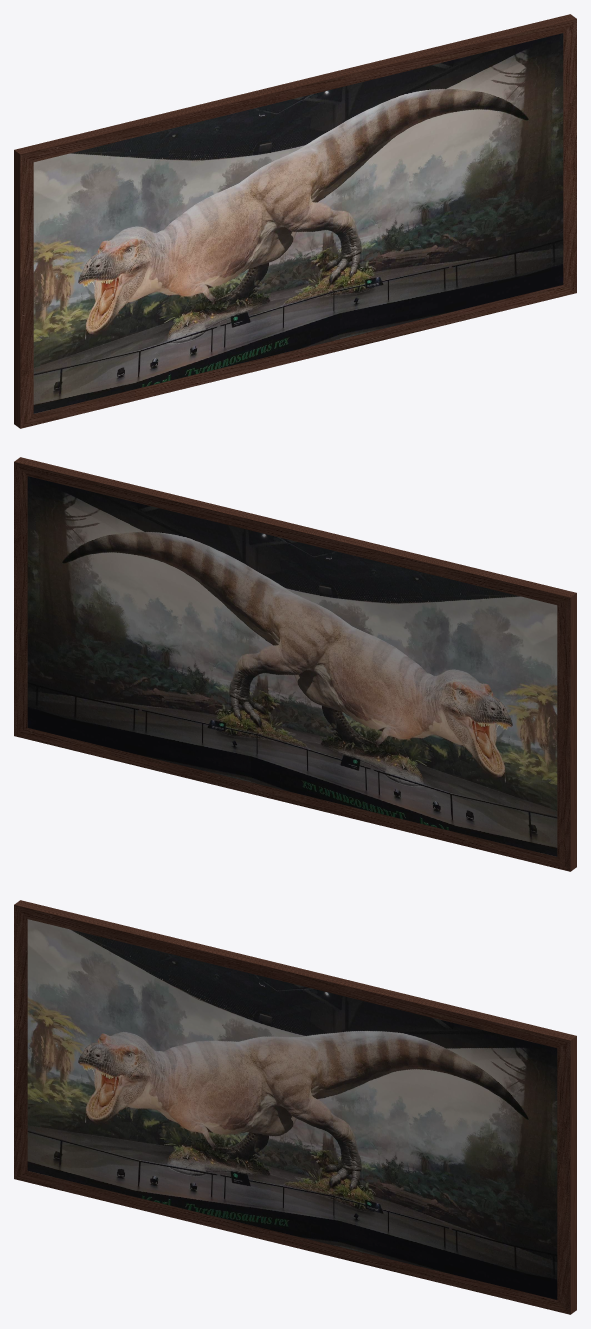
The model's file is Painting_3.fbx.
The picture shows the model from 3 angles, top to bottom: view 1: azimuth 30°, elevation 25°; view 2: azimuth 150°, elevation 25°; view 3: azimuth 330°, elevation 25°; orthographic projection.
Parts seen in each view (by area): view 1: Painting_3; view 2: Painting_3; view 3: Painting_3.
Boxes of the visible parts, x1,y1,x2,y2 form: Painting_3: (14,14,576,428); Painting_3: (14,457,576,871); Painting_3: (14,900,576,1314).
Size of the model in its own units: 193 by 90.82 by 3.88.
